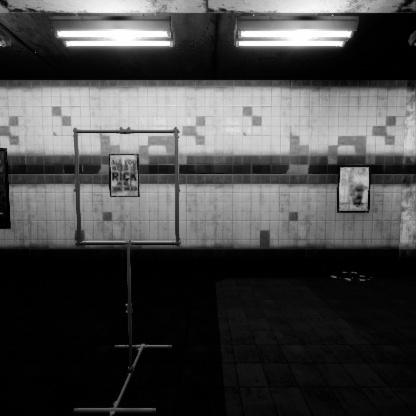gate: (74, 169, 189, 287)
